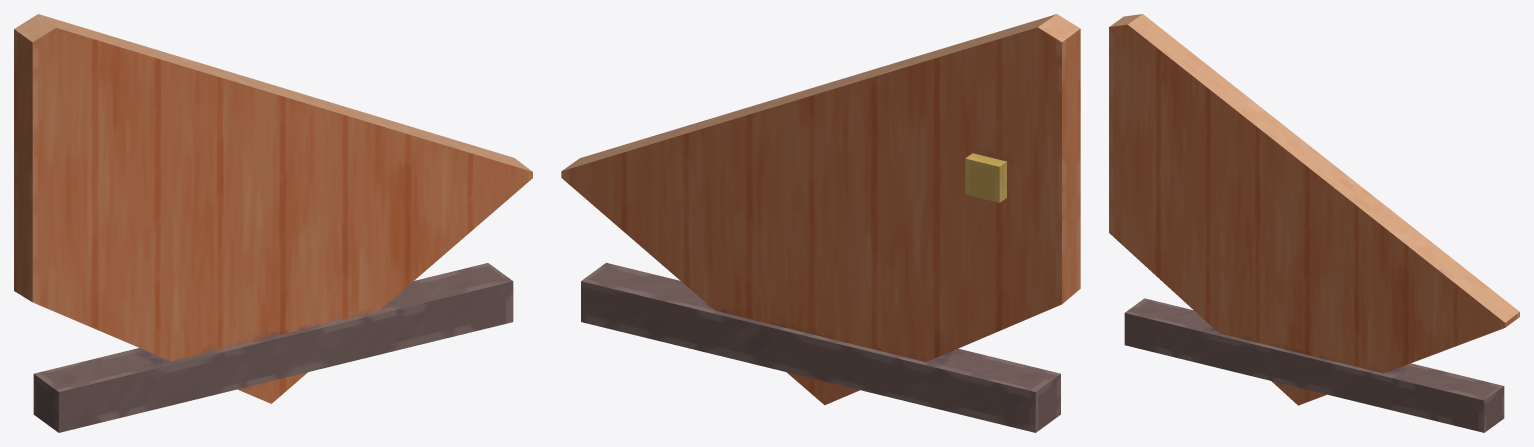
File: door2_wood_s03.fbx
The picture shows the model from 3 angles, left to right: view 1: azimuth 30°, elevation 25°; view 2: azimuth 150°, elevation 25°; view 3: azimuth 330°, elevation 25°; orthographic projection. The views are drawn at different scales.
Visible parts, largest first — view 1: door2_wood_s03; view 2: door2_wood_s03; view 3: door2_wood_s03.
Boxes of the visible parts, x1,y1,x2,y2 form: door2_wood_s03: (14,14,532,432); door2_wood_s03: (561,14,1080,432); door2_wood_s03: (1109,14,1519,432).
Size of the model in its own units: 4.36 by 3.58 by 0.49.
